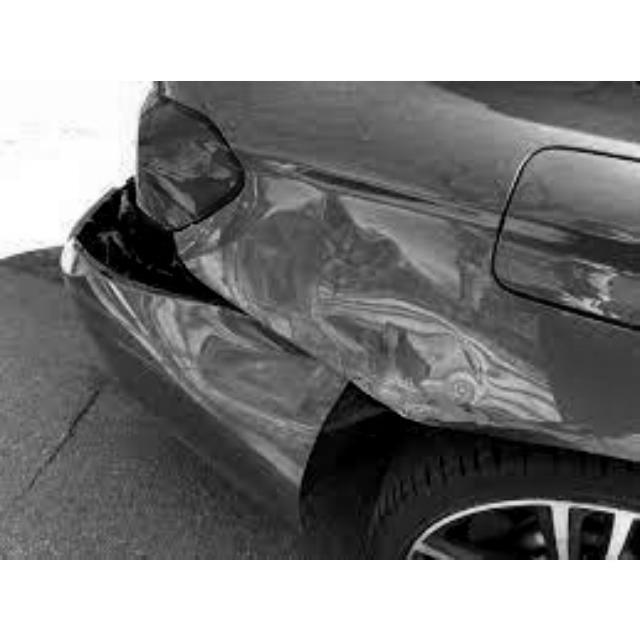quaterpanel-dent: (324, 98, 635, 471)
rear-bumper-dent: (55, 155, 319, 515)
